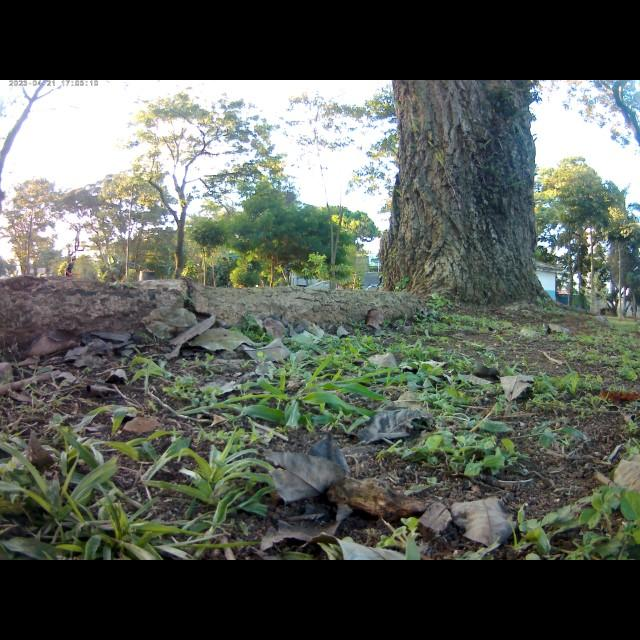arvore: (376, 81, 557, 326)
